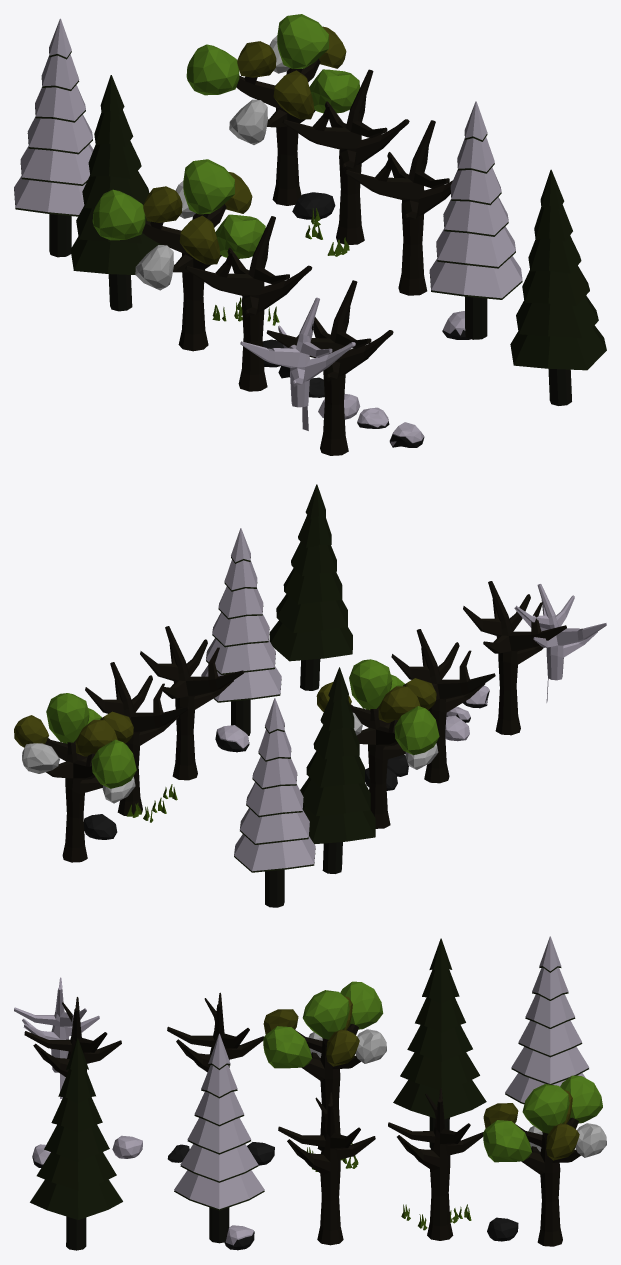
The model's file is natureza.obj.
3 renders of one model, top to bottom at view 1: azimuth 30°, elevation 25°; view 2: azimuth 150°, elevation 25°; view 3: azimuth 270°, elevation 25°, orthographic. The views are drawn at different scales.
Visible parts, largest first — view 1: Arbre_Normal.001_Cylinder.006, Arbre_Normal_Cylinder.002, SapinHiver.015_Cylinder.034, SapinHiver.001_Cylinder.000, SapinHiver_Cylinder.008, SapinHiver.002_Cylinder.001, Arbre_Automne_Cylinder.003, Arbre_Automne.001_Cylinder.009, Arbre_Hiver_Cylinder.004, Arbre_Hiver.001_Cylinder.010, Cylinder.000_Cylinder.007, caillou1_Icosphere; view 2: Arbre_Normal.001_Cylinder.006, SapinHiver.015_Cylinder.034, SapinHiver_Cylinder.008, Arbre_Normal_Cylinder.002, SapinHiver.002_Cylinder.001, SapinHiver.001_Cylinder.000, Arbre_Hiver_Cylinder.004, Arbre_Hiver.001_Cylinder.010, Arbre_Automne.001_Cylinder.009, Arbre_Automne_Cylinder.003, Cylinder.000_Cylinder.007, caillou1_Icosphere; view 3: Arbre_Normal.001_Cylinder.006, Arbre_Normal_Cylinder.002, SapinHiver.015_Cylinder.034, SapinHiver.001_Cylinder.000, SapinHiver.002_Cylinder.001, SapinHiver_Cylinder.008, Arbre_Hiver_Cylinder.004, Arbre_Automne_Cylinder.003, Arbre_Hiver.001_Cylinder.010, Arbre_Automne.001_Cylinder.009, Cylinder.000_Cylinder.007, caillou1_Icosphere (+2 smaller).
Boxes of the visible parts, left/top/right/bottom form: Arbre_Normal.001_Cylinder.006: left=186, top=14, right=359, bottom=205; Arbre_Normal_Cylinder.002: left=92, top=159, right=265, bottom=351; SapinHiver.015_Cylinder.034: left=510, top=169, right=606, bottom=405; SapinHiver.001_Cylinder.000: left=429, top=101, right=522, bottom=339; SapinHiver_Cylinder.008: left=14, top=18, right=93, bottom=257; SapinHiver.002_Cylinder.001: left=70, top=75, right=162, bottom=311; Arbre_Automne_Cylinder.003: left=282, top=69, right=409, bottom=244; Arbre_Automne.001_Cylinder.009: left=185, top=216, right=312, bottom=391; Arbre_Hiver_Cylinder.004: left=345, top=120, right=452, bottom=295; Arbre_Hiver.001_Cylinder.010: left=266, top=280, right=393, bottom=455; Cylinder.000_Cylinder.007: left=240, top=297, right=355, bottom=430; caillou1_Icosphere: left=292, top=192, right=335, bottom=219; Arbre_Normal.001_Cylinder.006: left=14, top=693, right=136, bottom=862; SapinHiver.015_Cylinder.034: left=269, top=484, right=352, bottom=690; SapinHiver_Cylinder.008: left=234, top=698, right=315, bottom=907; Arbre_Normal_Cylinder.002: left=316, top=659, right=439, bottom=828; SapinHiver.002_Cylinder.001: left=300, top=667, right=375, bottom=873; SapinHiver.001_Cylinder.000: left=201, top=528, right=281, bottom=735; Arbre_Hiver_Cylinder.004: left=140, top=626, right=243, bottom=780; Arbre_Hiver.001_Cylinder.010: left=463, top=581, right=566, bottom=735; Arbre_Automne.001_Cylinder.009: left=391, top=629, right=495, bottom=783; Arbre_Automne_Cylinder.003: left=85, top=662, right=188, bottom=815; Cylinder.000_Cylinder.007: left=514, top=584, right=606, bottom=702; caillou1_Icosphere: left=84, top=814, right=117, bottom=839; Arbre_Normal.001_Cylinder.006: left=483, top=1075, right=606, bottom=1246; Arbre_Normal_Cylinder.002: left=263, top=981, right=386, bottom=1150; SapinHiver.015_Cylinder.034: left=30, top=1038, right=122, bottom=1250; SapinHiver.001_Cylinder.000: left=174, top=1033, right=264, bottom=1243; SapinHiver.002_Cylinder.001: left=393, top=938, right=486, bottom=1147; SapinHiver_Cylinder.008: left=505, top=936, right=589, bottom=1104; Arbre_Hiver_Cylinder.004: left=278, top=1092, right=375, bottom=1245; Arbre_Automne_Cylinder.003: left=388, top=1088, right=483, bottom=1240; Arbre_Hiver.001_Cylinder.010: left=24, top=997, right=121, bottom=1076; Arbre_Automne.001_Cylinder.009: left=167, top=992, right=263, bottom=1072; Cylinder.000_Cylinder.007: left=14, top=977, right=99, bottom=1098; caillou1_Icosphere: left=487, top=1217, right=518, bottom=1241.
Bounding box in the file's own units: 8.67 × 5.18 × 13.15.
